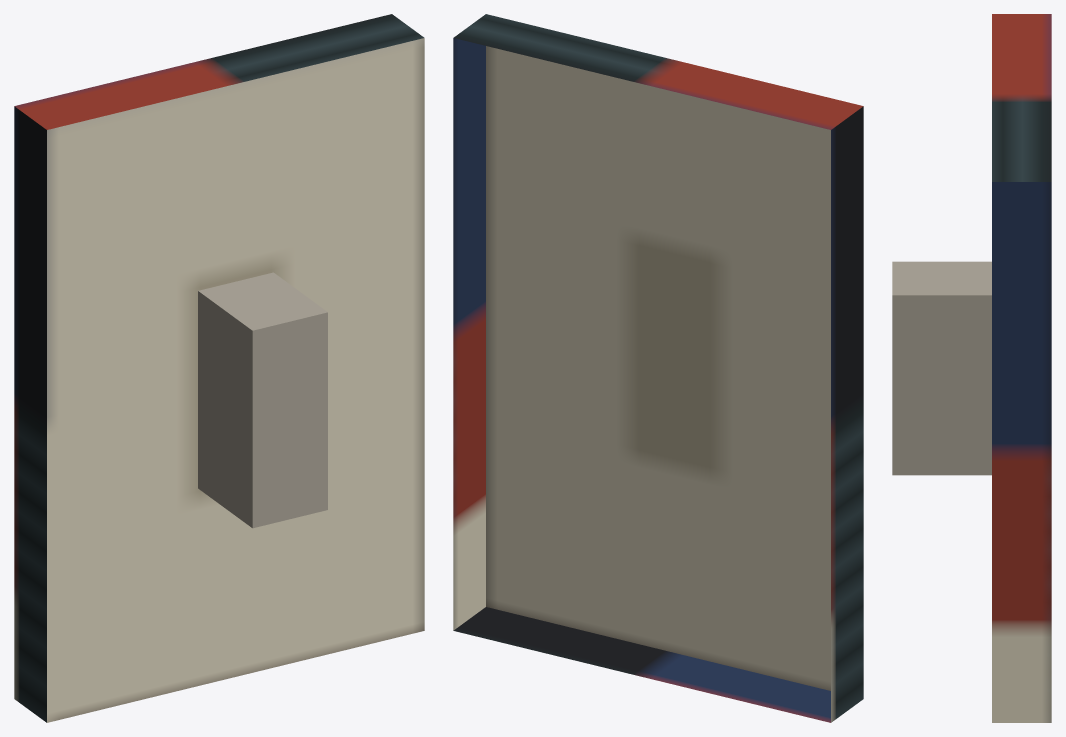
File: RES_IP_LightSwitch.obj
3 views of the same model, side by side, from view 1: azimuth 30°, elevation 25°; view 2: azimuth 150°, elevation 25°; view 3: azimuth 270°, elevation 25° (orthographic). The views are drawn at different scales.
Parts seen in each view (by area): view 1: RES_IP_LightSwitch_Mesh_M_Res_DetailAtlas, INT_Toggle_M_Furn_PlasticDirty; view 2: RES_IP_LightSwitch_Mesh_M_Res_DetailAtlas; view 3: RES_IP_LightSwitch_Mesh_M_Res_DetailAtlas, INT_Toggle_M_Furn_PlasticDirty.
Part boxes in pixels (x1=…): RES_IP_LightSwitch_Mesh_M_Res_DetailAtlas: x1=14, y1=14, x2=424, y2=722; INT_Toggle_M_Furn_PlasticDirty: x1=198, y1=272, x2=327, y2=528; RES_IP_LightSwitch_Mesh_M_Res_DetailAtlas: x1=453, y1=14, x2=863, y2=722; RES_IP_LightSwitch_Mesh_M_Res_DetailAtlas: x1=992, y1=14, x2=1051, y2=722; INT_Toggle_M_Furn_PlasticDirty: x1=892, y1=261, x2=991, y2=475.
Bounding box in the file's own units: 0.08 × 0.12 × 0.032.
Materials: 2 (2 with a texture image).
